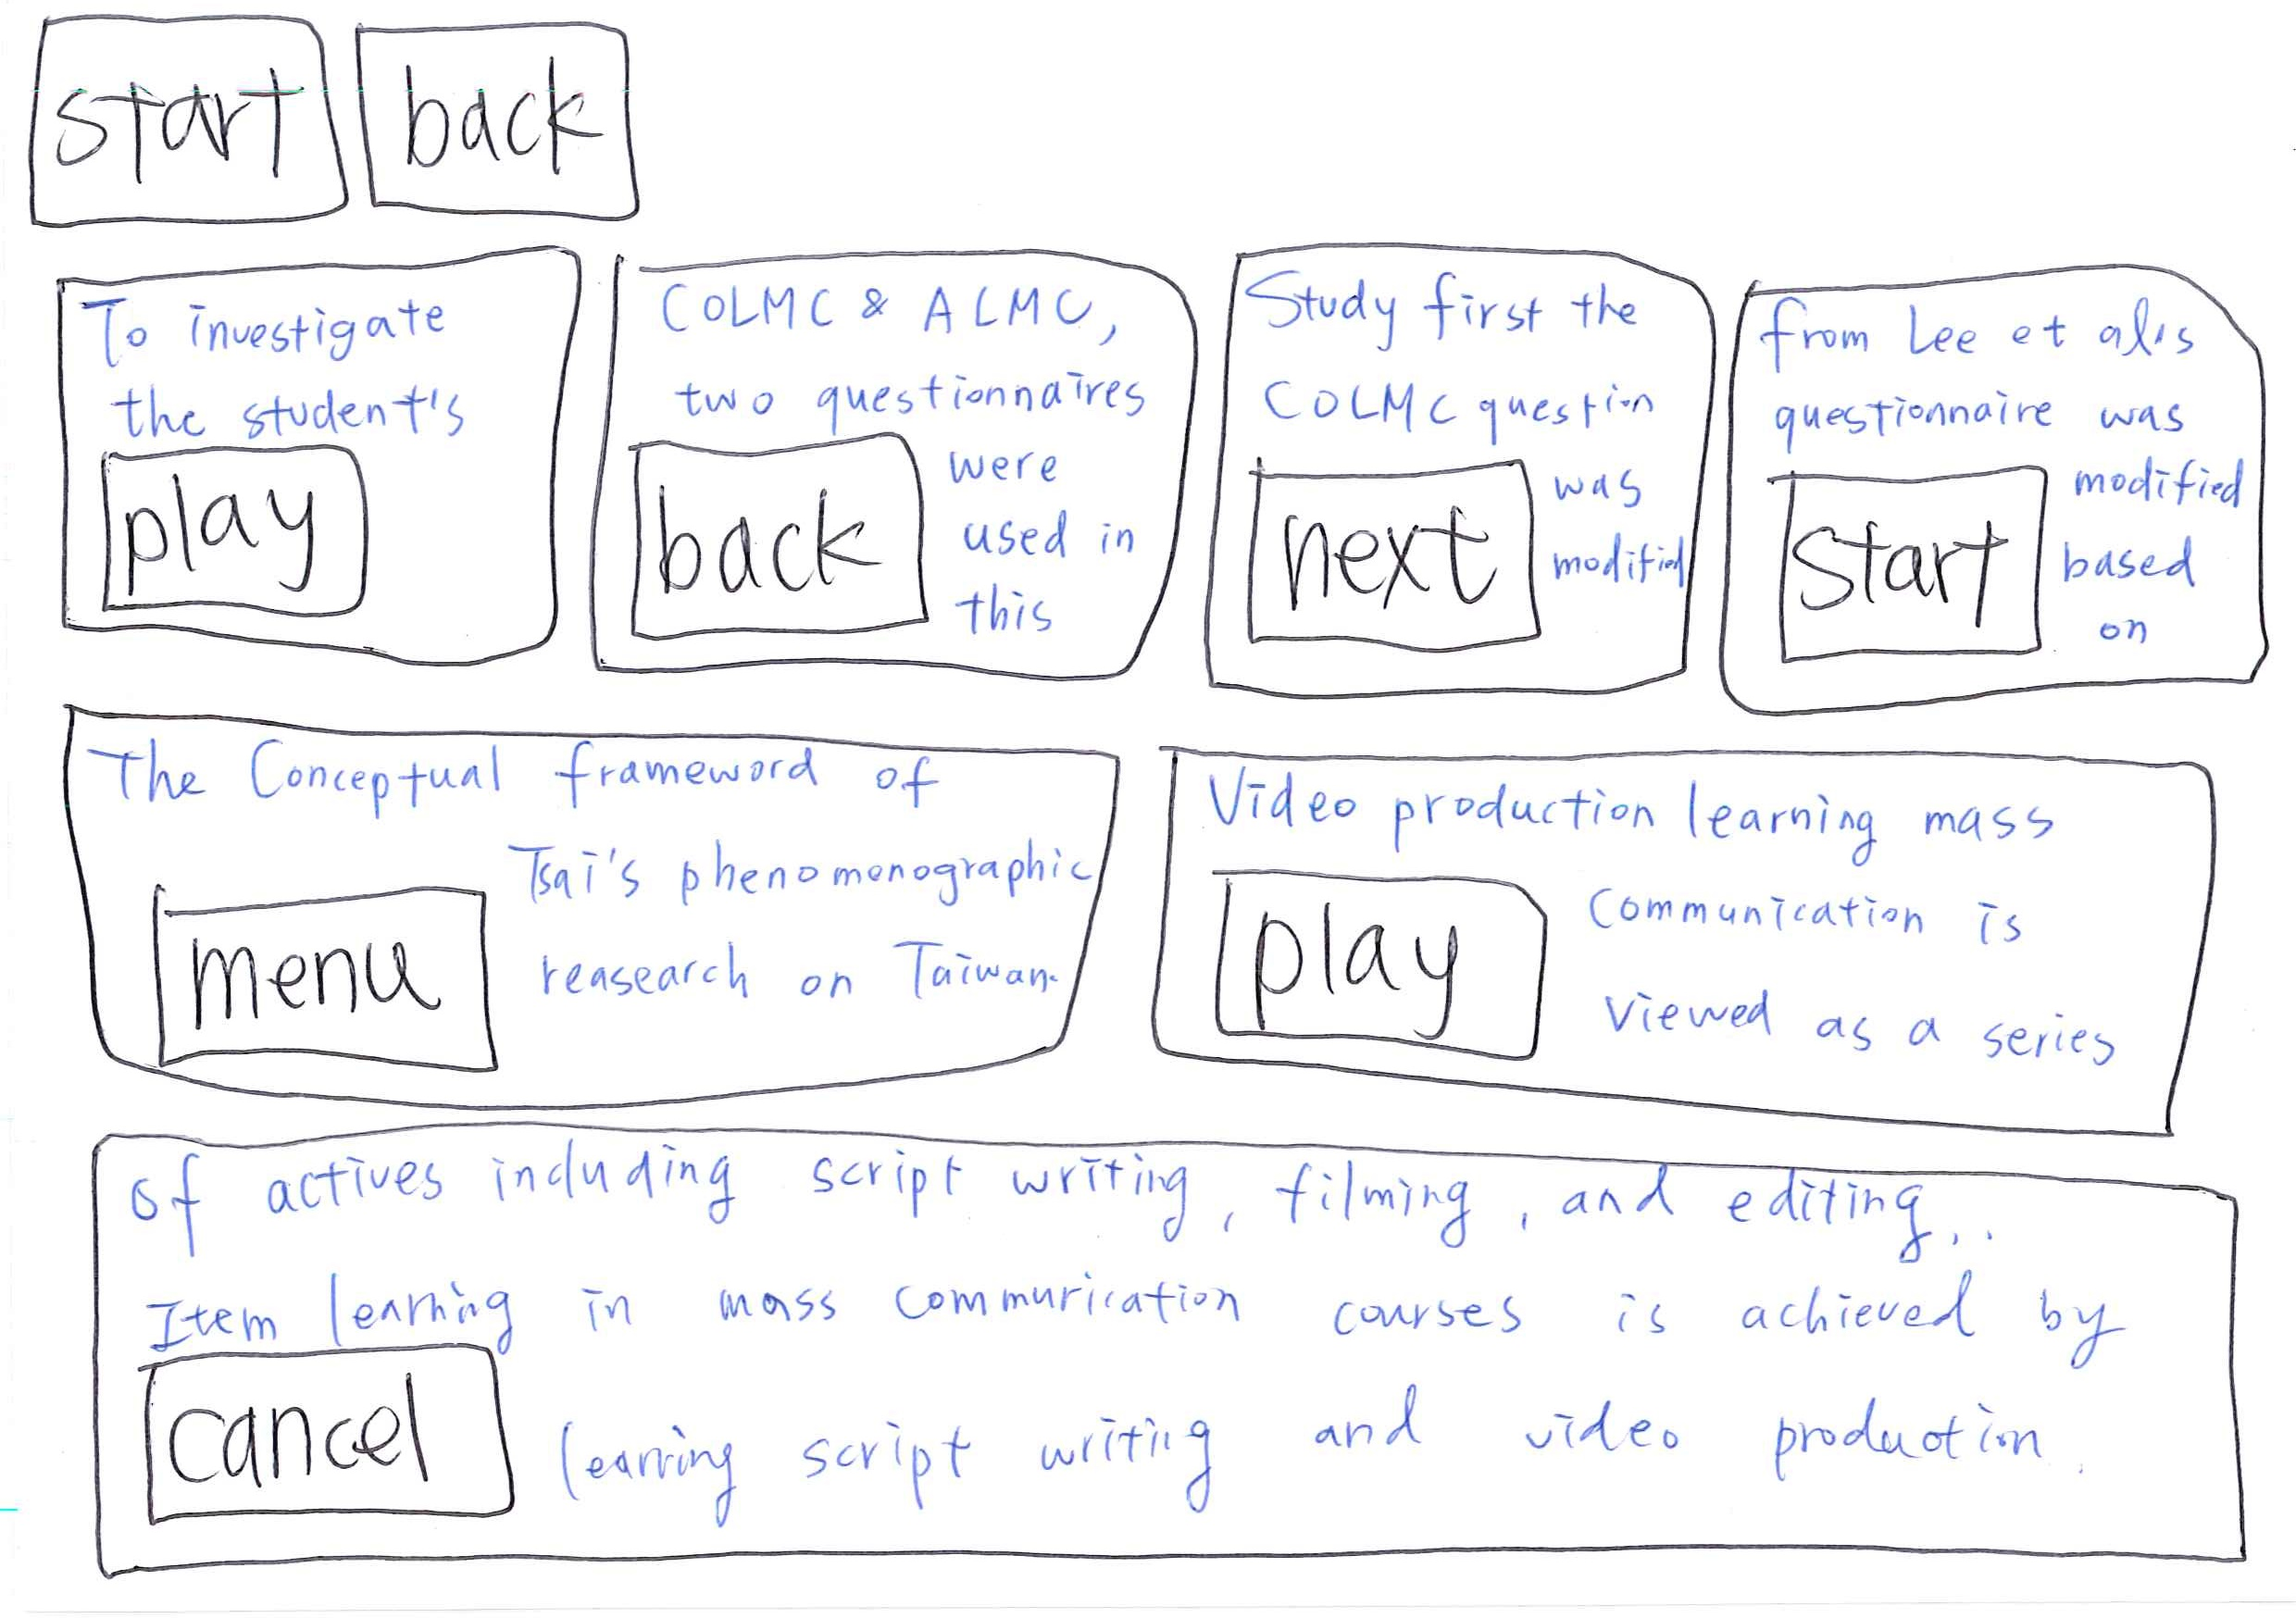back: (595, 427, 951, 651), (345, 5, 667, 238)
cancel: (124, 1345, 536, 1530)
double: (19, 665, 1156, 1138), (1133, 672, 2270, 1143)
menu: (116, 853, 539, 1079)
next: (1235, 440, 1548, 665)
play: (1193, 865, 1590, 1075), (81, 440, 405, 629)
quadruple: (574, 228, 1228, 707), (1701, 235, 2296, 725), (1194, 222, 1722, 727), (23, 245, 608, 686)
row: (19, 222, 2296, 727), (19, 713, 2294, 1170), (19, 1124, 2296, 1579), (19, 2, 2296, 233)
single: (49, 1122, 2285, 1590)
small-title: (154, 1157, 2133, 1326), (1207, 767, 2107, 863), (89, 748, 1032, 821), (1270, 252, 1657, 341), (1765, 301, 2226, 375), (102, 292, 482, 380), (637, 271, 1112, 341)
start: (14, 2, 385, 243), (1755, 450, 2074, 678)
text: (545, 1264, 2177, 1495), (1578, 862, 2142, 1080), (545, 814, 1082, 1009), (960, 376, 1133, 641), (2084, 399, 2235, 625), (1257, 352, 1652, 436), (673, 362, 1142, 429), (1545, 382, 1669, 608), (1774, 392, 2228, 443), (131, 382, 471, 429)
